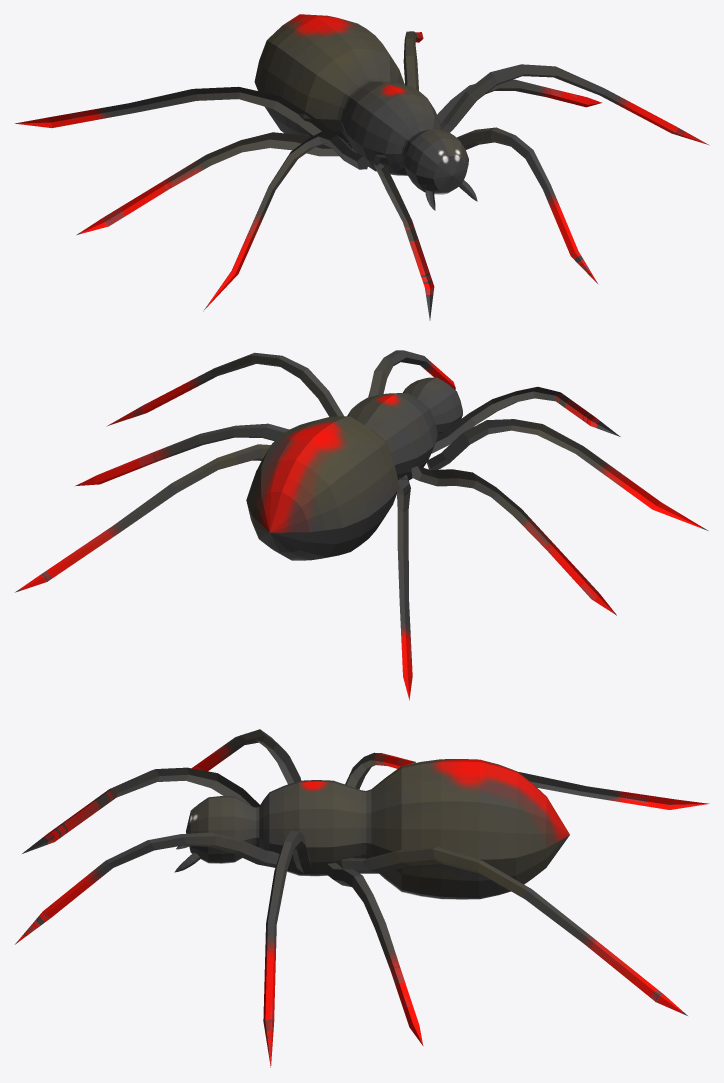
File: Spider3.glb
3 renders of one model, top to bottom at view 1: azimuth 30°, elevation 25°; view 2: azimuth 150°, elevation 25°; view 3: azimuth 270°, elevation 25°, orthographic. The views are drawn at different scales.
Parts seen in each view (by area): view 1: Circle; view 2: Circle; view 3: Circle.
Boxes of the visible parts, bbox=[...] form: Circle: bbox=[15, 14, 709, 320]; Circle: bbox=[15, 350, 708, 700]; Circle: bbox=[15, 729, 709, 1067].
Size of the model in its own units: 1.76 by 0.4003 by 1.69.
1 material, 1 textured.
